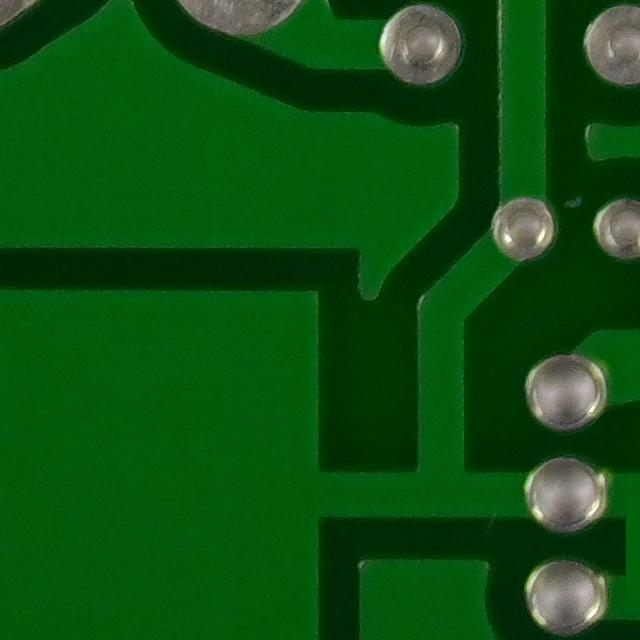short: (568, 468, 640, 628)
